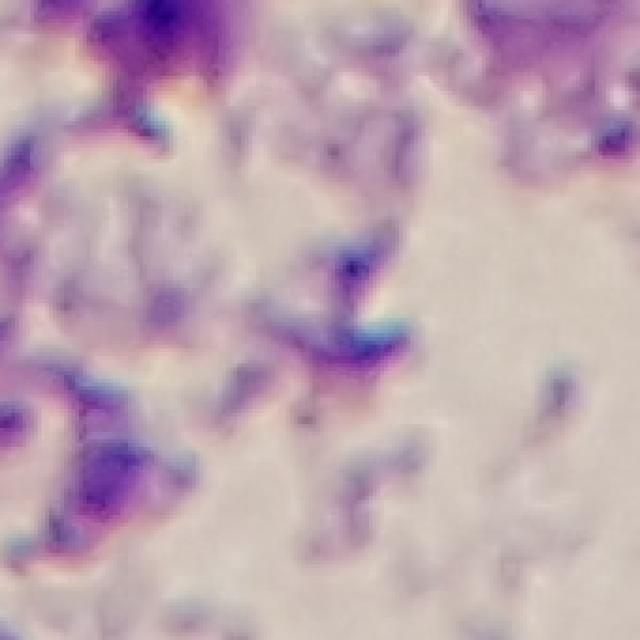non-sperm: (258, 205, 421, 374)
